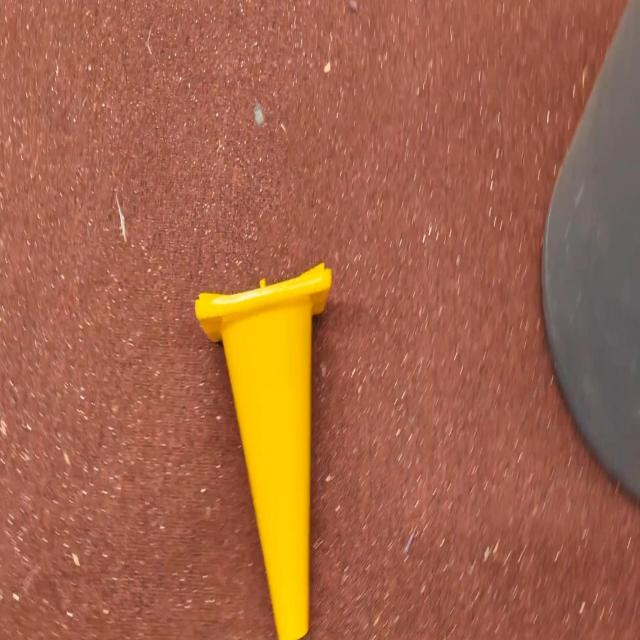frc_cone: (197, 266, 332, 636)
